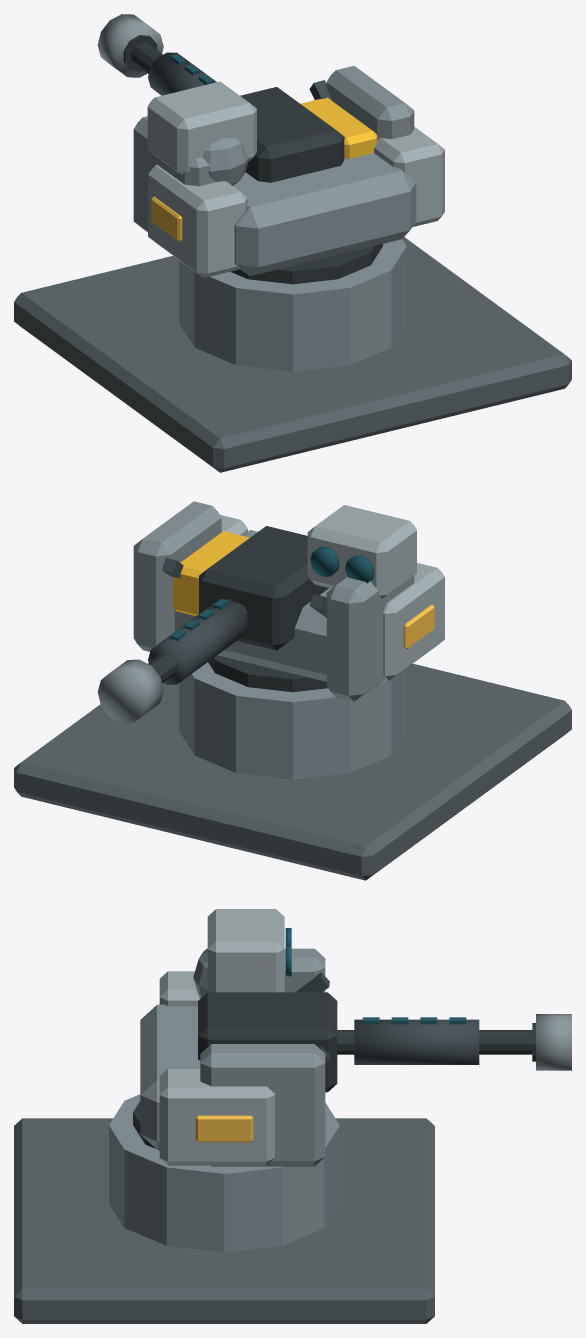
Rendered from MOD_Autocannon_U2.fbx.
3 renders of one model, top to bottom at view 1: azimuth 30°, elevation 25°; view 2: azimuth 150°, elevation 25°; view 3: azimuth 270°, elevation 25°, orthographic.
Visible parts, largest first — view 1: ModuleDeck, FixedPedestal, TurretCarriage, U1 Port ammunition box, U2 dual sensor housing, GunReceiver, U2 Starboard armored cheek, U1 Starboard ammunition box, U2 Port armored cheek, FixedBearing, U2 reinforced muzzle collar, AmmoFeed (+4 smaller); view 2: ModuleDeck, FixedPedestal, GunReceiver, U2 Port armored cheek, U2 Starboard armored cheek, U2 dual sensor housing, U1 Port ammunition box, TurretCarriage, U1 barrel thermal jacket, U2 reinforced muzzle collar, AmmoFeed, FixedBearing (+4 smaller); view 3: ModuleDeck, FixedPedestal, U2 Starboard armored cheek, U1 Starboard ammunition box, GunReceiver, U2 dual sensor housing, U1 barrel thermal jacket, TurretCarriage, U2 reinforced muzzle collar, AutocannonBarrel, U1 Starboard magazine latch, U2 Port armored cheek (+2 smaller).
Boxes of the visible parts, <box> form: ModuleDeck: <box>14,237,571,472</box>; FixedPedestal: <box>179,239,406,371</box>; TurretCarriage: <box>233,153,416,276</box>; U1 Port ammunition box: <box>148,164,247,277</box>; U2 dual sensor housing: <box>147,81,256,175</box>; GunReceiver: <box>240,87,344,182</box>; U2 Starboard armored cheek: <box>326,66,414,139</box>; U1 Starboard ammunition box: <box>374,127,444,226</box>; U2 Port armored cheek: <box>133,116,215,232</box>; FixedBearing: <box>230,244,382,284</box>; U2 reinforced muzzle collar: <box>97,14,163,77</box>; AmmoFeed: <box>300,98,377,158</box>; ModuleDeck: <box>14,663,571,880</box>; FixedPedestal: <box>179,662,406,779</box>; GunReceiver: <box>199,526,328,650</box>; U2 Port armored cheek: <box>326,576,414,701</box>; U2 Starboard armored cheek: <box>133,501,221,651</box>; U2 dual sensor housing: <box>307,505,416,598</box>; U1 Port ammunition box: <box>383,563,444,680</box>; TurretCarriage: <box>174,530,331,681</box>; U1 barrel thermal jacket: <box>148,599,248,684</box>; U2 reinforced muzzle collar: <box>97,659,163,723</box>; AmmoFeed: <box>173,531,249,615</box>; FixedBearing: <box>208,655,327,692</box>; ModuleDeck: <box>14,1118,434,1323</box>; FixedPedestal: <box>109,1094,339,1252</box>; U2 Starboard armored cheek: <box>200,1044,325,1166</box>; U1 Starboard ammunition box: <box>159,1069,274,1165</box>; GunReceiver: <box>198,992,337,1092</box>; U2 dual sensor housing: <box>207,909,284,992</box>; U1 barrel thermal jacket: <box>354,1019,479,1064</box>; TurretCarriage: <box>140,1004,200,1149</box>; U2 reinforced muzzle collar: <box>536,1014,571,1070</box>; AutocannonBarrel: <box>337,1030,532,1054</box>; U1 Starboard magazine latch: <box>195,1115,253,1142</box>; U2 Port armored cheek: <box>284,948,325,992</box>.
Size of the model in its own units: 175 by 126 by 232.
